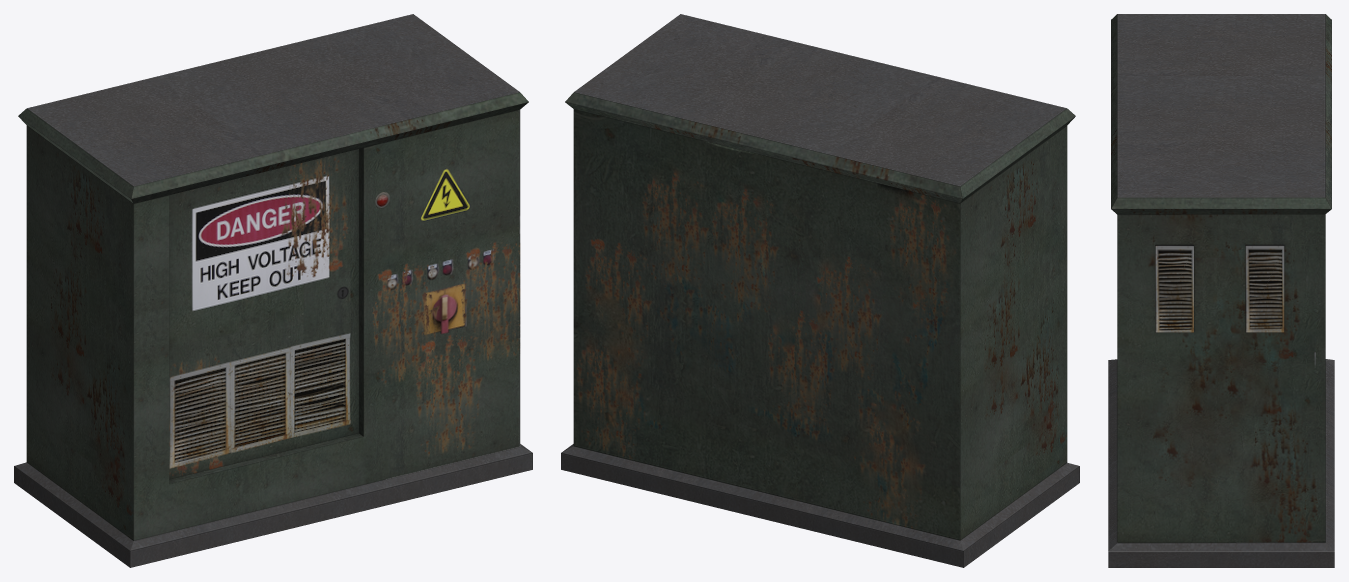
File: electric_box.glb
3 renders of one model, left to right at view 1: azimuth 30°, elevation 25°; view 2: azimuth 150°, elevation 25°; view 3: azimuth 270°, elevation 25°, orthographic. The views are drawn at different scales.
Parts seen in each view (by area): view 1: Box003; view 2: Box003; view 3: Box003.
Boxes of the visible parts, <box> form: Box003: <box>14,14,532,567</box>; Box003: <box>561,14,1079,567</box>; Box003: <box>1108,14,1334,567</box>.
Bounding box in the file's own units: 50 × 44.62 × 25.
1 material, 1 textured.
